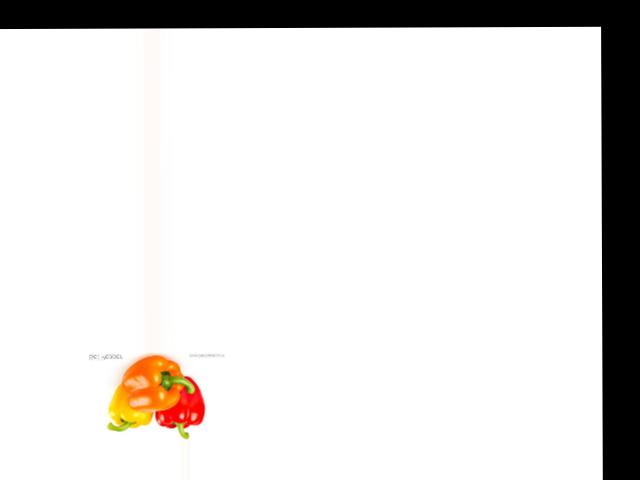bell_pepper: (104, 381, 155, 434)
